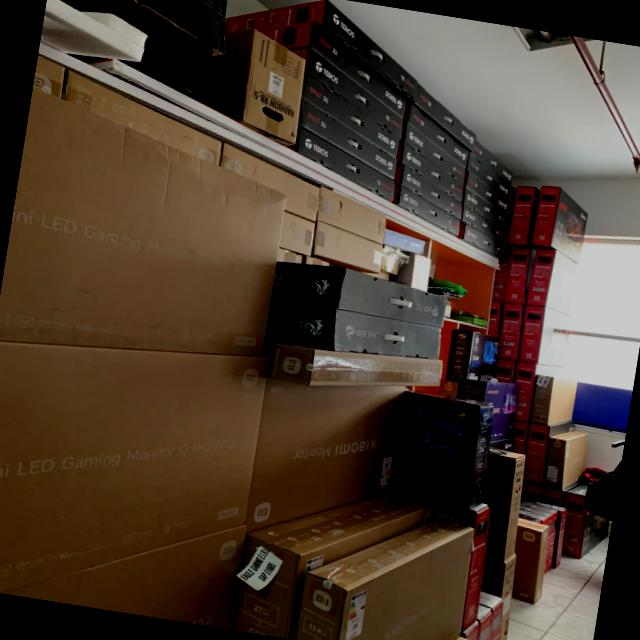caja-monitor: (0, 91, 287, 355), (0, 342, 266, 592), (234, 492, 435, 639), (7, 526, 242, 629), (245, 379, 405, 530), (296, 519, 474, 640), (226, 0, 418, 103), (63, 69, 225, 169), (261, 21, 407, 120), (396, 492, 489, 631), (271, 263, 447, 328), (393, 393, 491, 509), (264, 301, 440, 360), (292, 48, 403, 139), (301, 73, 401, 158), (263, 341, 443, 387), (300, 99, 398, 180), (218, 144, 318, 221), (296, 127, 396, 203), (482, 447, 526, 563), (532, 186, 587, 264), (407, 102, 468, 168), (317, 186, 386, 244), (400, 143, 465, 203), (416, 85, 475, 150), (404, 124, 466, 185), (313, 220, 383, 273), (526, 248, 580, 316), (562, 483, 610, 559), (397, 165, 463, 220), (393, 184, 461, 237), (518, 305, 573, 368), (462, 380, 518, 441), (511, 518, 549, 604), (525, 421, 576, 485), (521, 497, 566, 569), (514, 362, 565, 422), (482, 555, 516, 640), (445, 330, 499, 383), (544, 430, 589, 490), (531, 375, 577, 425), (521, 505, 554, 574), (466, 153, 511, 200), (470, 140, 514, 185), (458, 223, 509, 261), (463, 188, 509, 230), (504, 247, 537, 305), (508, 187, 540, 246), (466, 171, 509, 214), (462, 206, 507, 244), (279, 212, 314, 257), (497, 303, 524, 361), (33, 55, 67, 99), (480, 591, 504, 640), (543, 481, 581, 507), (492, 261, 507, 302), (512, 421, 529, 455), (495, 358, 516, 384), (477, 604, 492, 640), (488, 302, 502, 339), (522, 482, 544, 502)
